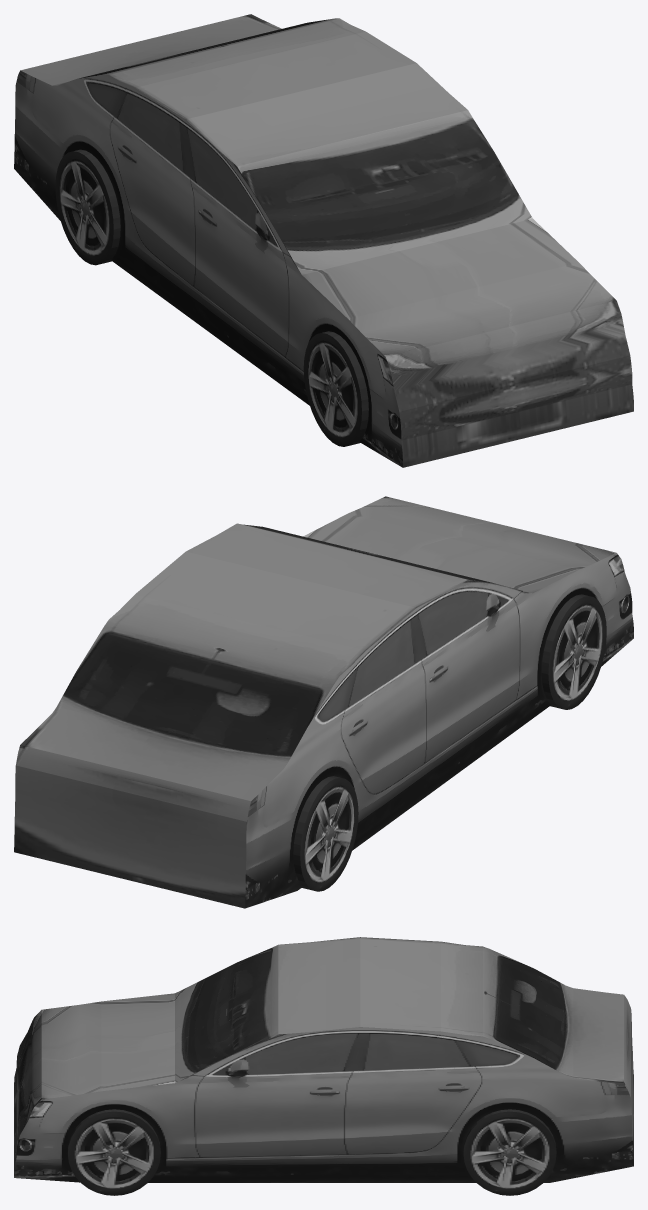
Rendered from car.fbx.
3 renders of one model, top to bottom at view 1: azimuth 30°, elevation 25°; view 2: azimuth 150°, elevation 25°; view 3: azimuth 270°, elevation 25°, orthographic. The views are drawn at different scales.
Visible parts, largest first — view 1: car-body, tire.003, tire.002; view 2: car-body, tire.002, tire.003; view 3: car-body, tire.001, tire.
Part boxes in pixels (x1,y1,x2,y2): car-body: (14,14,633,467); tire.003: (55,149,120,265); tire.002: (303,331,368,446); car-body: (14,496,633,908); tire.002: (541,594,606,709); tire.003: (293,776,358,891); car-body: (14,937,633,1182); tire.001: (463,1109,556,1195); tire: (68,1109,160,1195).
Bounding box in the file's own units: 169 × 138 × 467.
Materials: 4 (4 with a texture image).
